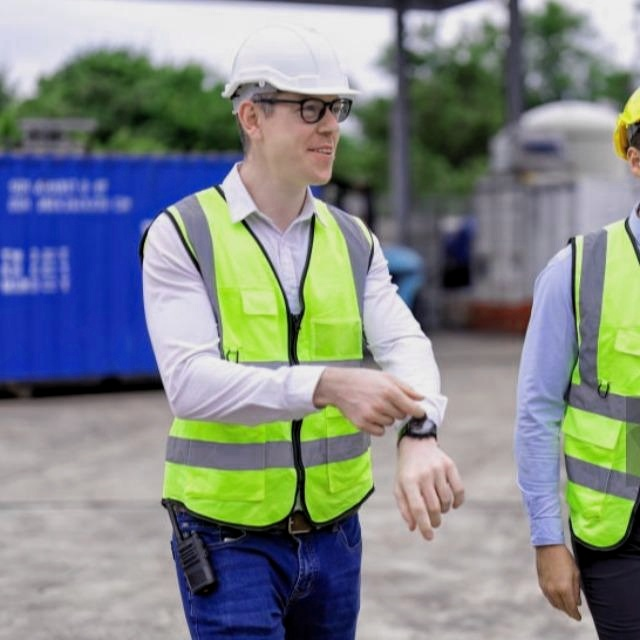Con_Casco: (218, 27, 361, 182)
Con_Chaleco: (156, 193, 386, 515)
